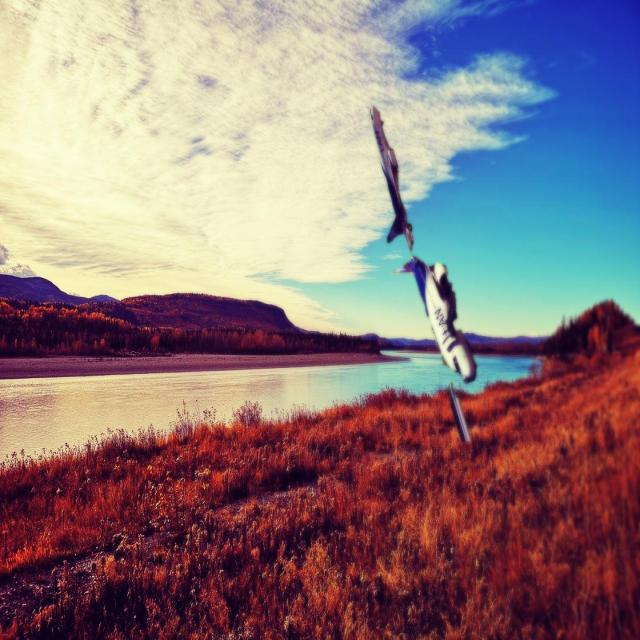airplane: (391, 255, 477, 384), (369, 104, 414, 251)
